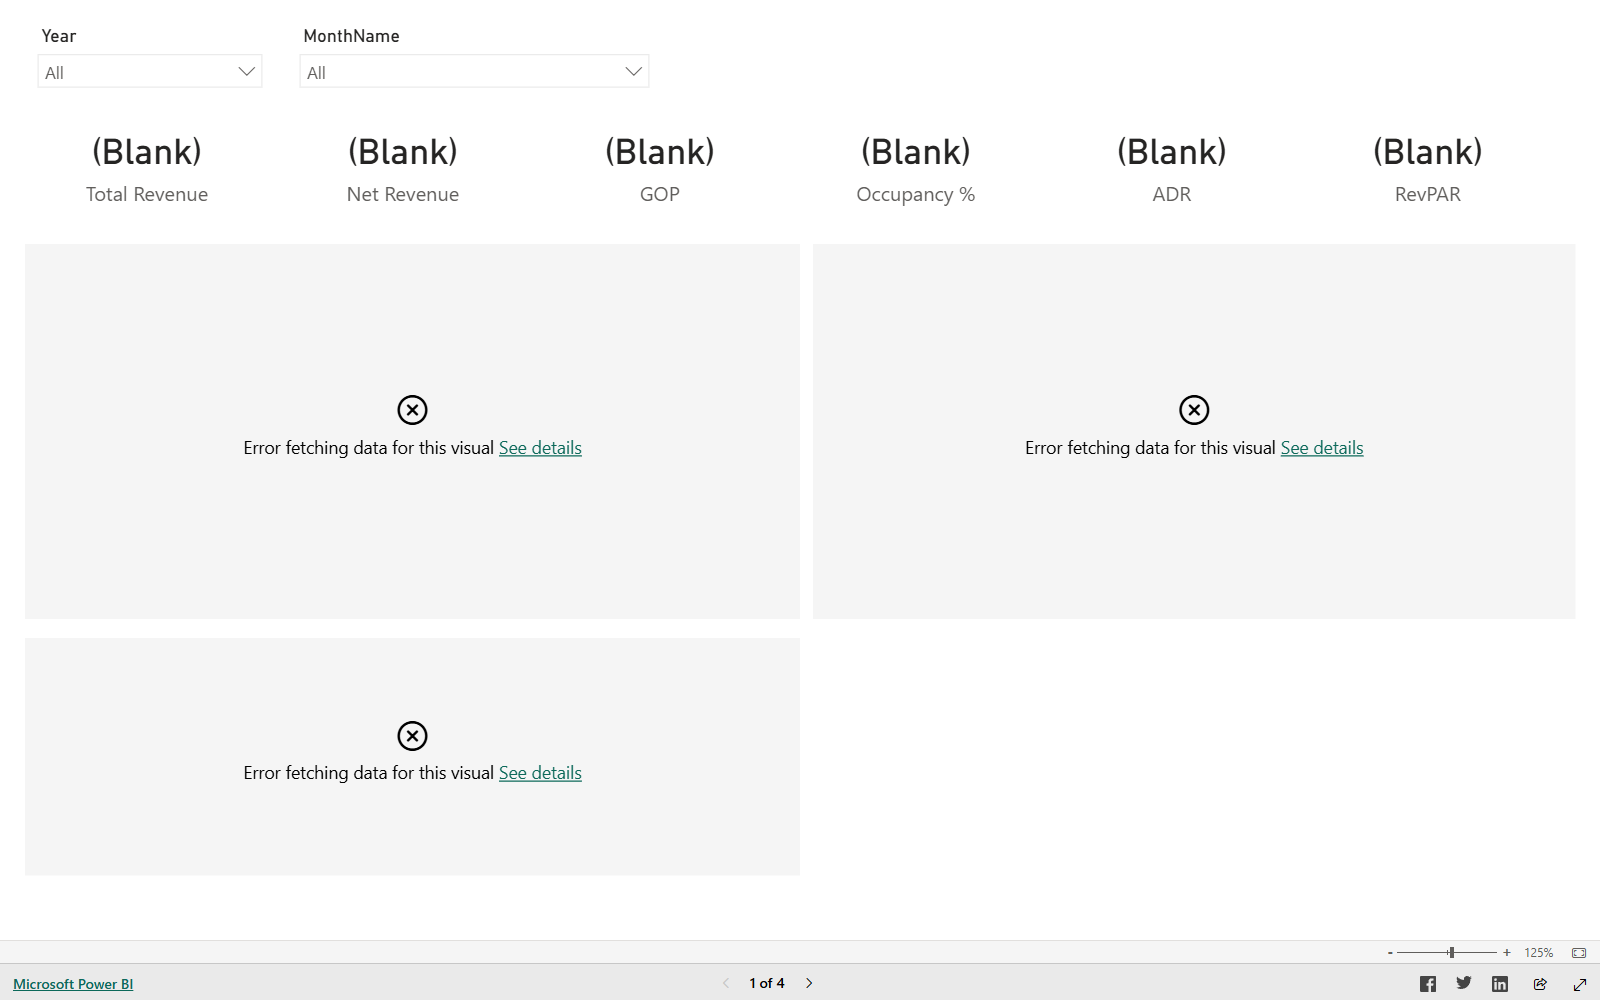

This screenshot's page, from the dashboard's own definition file:
{"tool":"powerbi","page":{"name":"Executive Command Center","canvas":[1280,720],"ordinal":0},"visuals":[{"type":"card","fields":{"Values":["_Measures.Total Revenue"]},"box":[20,80,195,100],"z":0},{"type":"card","fields":{"Values":["_Measures.Net Revenue"]},"box":[225,80,195,100],"z":1},{"type":"card","fields":{"Values":["_Measures.GOP"]},"box":[430,80,195,100],"z":2},{"type":"card","fields":{"Values":["_Measures.Occupancy %"]},"box":[635,80,195,100],"z":3},{"type":"card","fields":{"Values":["_Measures.ADR"]},"box":[840,80,195,100],"z":4},{"type":"card","fields":{"Values":["_Measures.RevPAR"]},"box":[1045,80,195,100],"z":5},{"type":"lineStackedColumnComboChart","fields":{"Category":["Dim_Date.MonthName"],"ColumnY":["_Measures.Total Revenue","_Measures.Total Expenses"],"Y":["_Measures.Total Expenses"]},"box":[20,195,620,300],"z":6},{"type":"waterfallChart","fields":{"Category":["Dim_Date.MonthName"],"Y":["_Measures.Total Revenue"]},"box":[650,195,610,300],"z":7},{"type":"pivotTable","fields":{"Rows":["Dim_Department.DepartmentName"],"Values":["_Measures.Total Revenue","_Measures.Total Expenses","_Measures.GOP Margin %"]},"box":[20,510,620,190],"z":8},{"type":"slicer","fields":{"Values":["Dim_Date.Year"]},"box":[19.9,14.8,199.9,56.3],"z":9},{"type":"slicer","fields":{"Values":["Dim_Date.MonthName"]},"box":[230,14.8,299.9,56.3],"z":10}]}

Visuals, with their boxes on the page's 1280x720 design canvas (x1, y1, x2, y2). These are canvas units, not pixel positions in the 1600x1000 screenshot, which may show the page scaled, cropped or inside an application window:
card - _Measures.Total Revenue: (left=20, top=80, right=215, bottom=180)
card - _Measures.Net Revenue: (left=225, top=80, right=420, bottom=180)
card - _Measures.GOP: (left=430, top=80, right=625, bottom=180)
card - _Measures.Occupancy %: (left=635, top=80, right=830, bottom=180)
card - _Measures.ADR: (left=840, top=80, right=1035, bottom=180)
card - _Measures.RevPAR: (left=1045, top=80, right=1240, bottom=180)
lineStackedColumnComboChart - Dim_Date.MonthName x _Measures.Total Revenue: (left=20, top=195, right=640, bottom=495)
waterfallChart - Dim_Date.MonthName x _Measures.Total Revenue: (left=650, top=195, right=1260, bottom=495)
pivotTable - Dim_Department.DepartmentName x _Measures.Total Revenue: (left=20, top=510, right=640, bottom=700)
slicer - Dim_Date.Year: (left=20, top=15, right=220, bottom=71)
slicer - Dim_Date.MonthName: (left=230, top=15, right=530, bottom=71)
